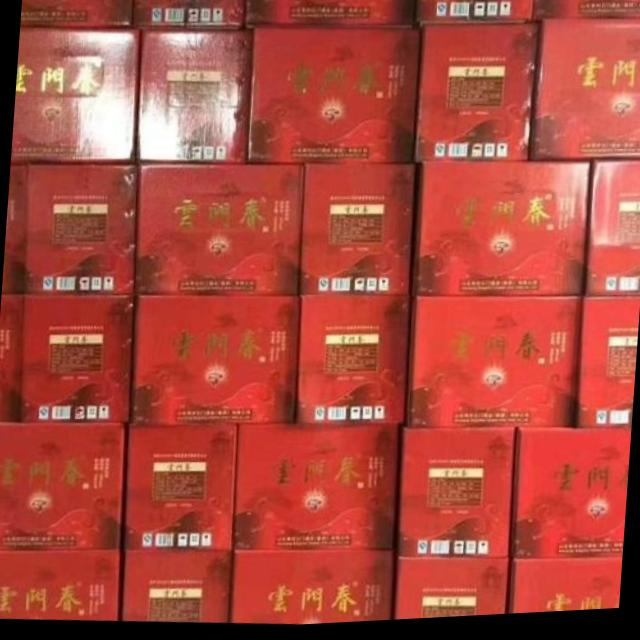box: (245, 28, 421, 167), (414, 165, 592, 302), (405, 301, 583, 435), (129, 295, 301, 428), (135, 164, 303, 300), (233, 425, 401, 558), (414, 23, 542, 167), (10, 27, 142, 166), (135, 28, 255, 165), (0, 422, 125, 553), (24, 161, 140, 298), (529, 23, 640, 166), (511, 432, 631, 564), (294, 297, 413, 430), (398, 430, 517, 561), (299, 167, 415, 299), (18, 296, 135, 425), (124, 425, 239, 549), (228, 549, 397, 627), (576, 302, 640, 437), (0, 549, 118, 622), (121, 550, 234, 625), (583, 165, 640, 303), (394, 561, 511, 624), (509, 563, 622, 619), (245, 0, 412, 30), (132, 0, 247, 30), (20, 0, 132, 28), (0, 294, 24, 423), (1, 162, 24, 296), (415, 0, 532, 26), (532, 0, 640, 24)
